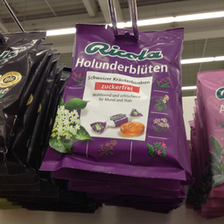candy: (44, 29, 189, 176)
